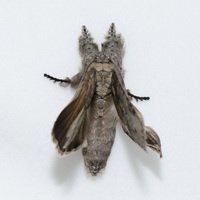insect: (44, 23, 161, 174)
